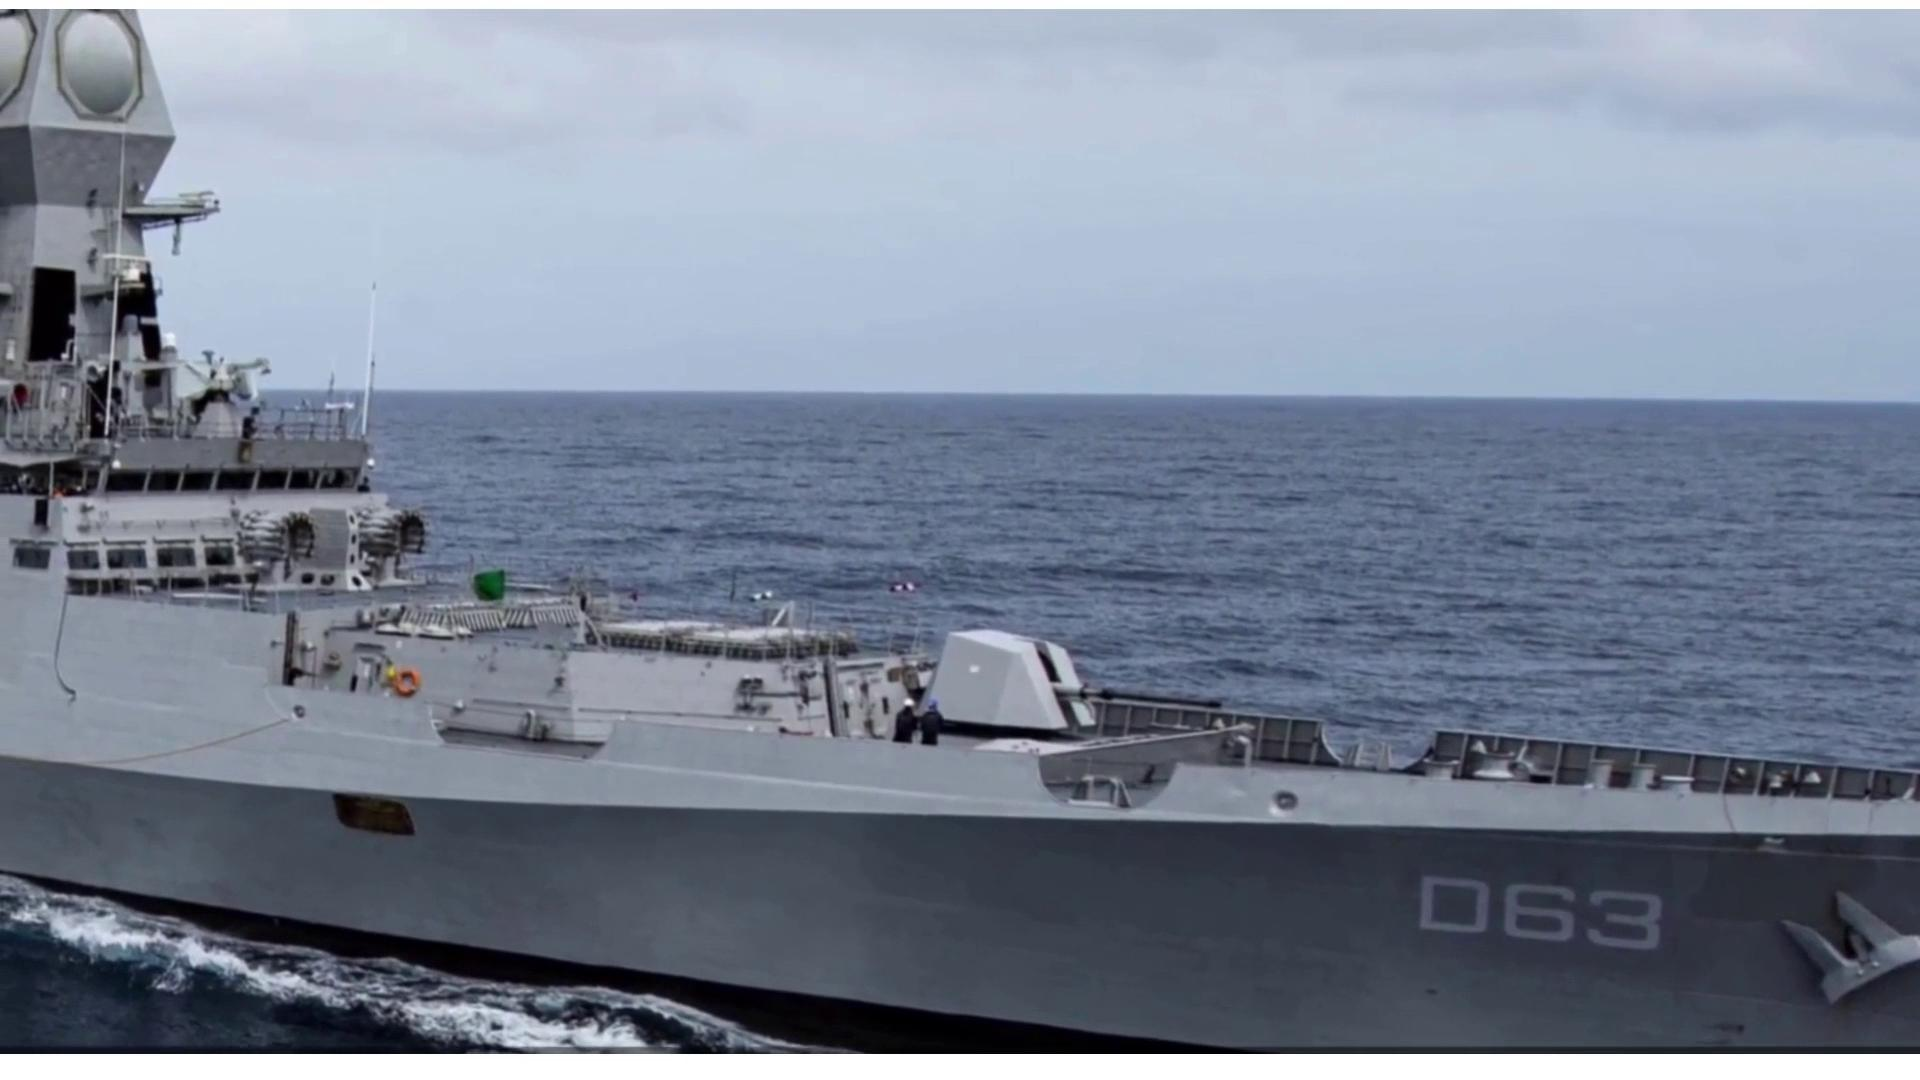OCR: (1408, 869, 1682, 965)
